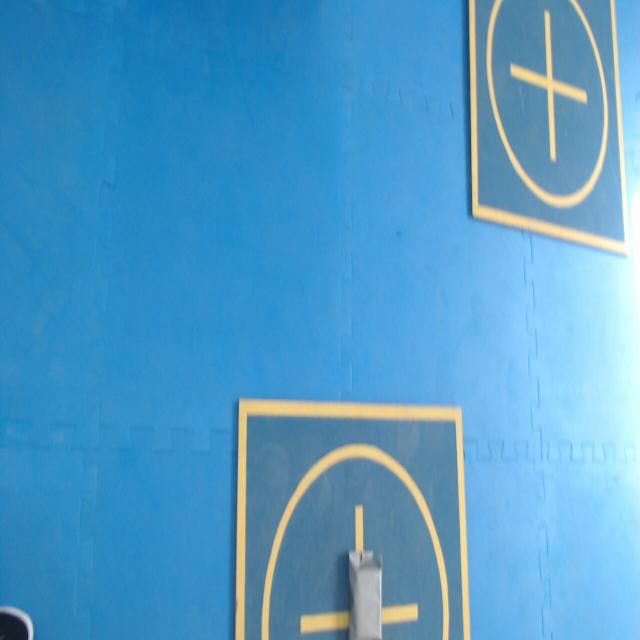lipo: (349, 551, 382, 639)
